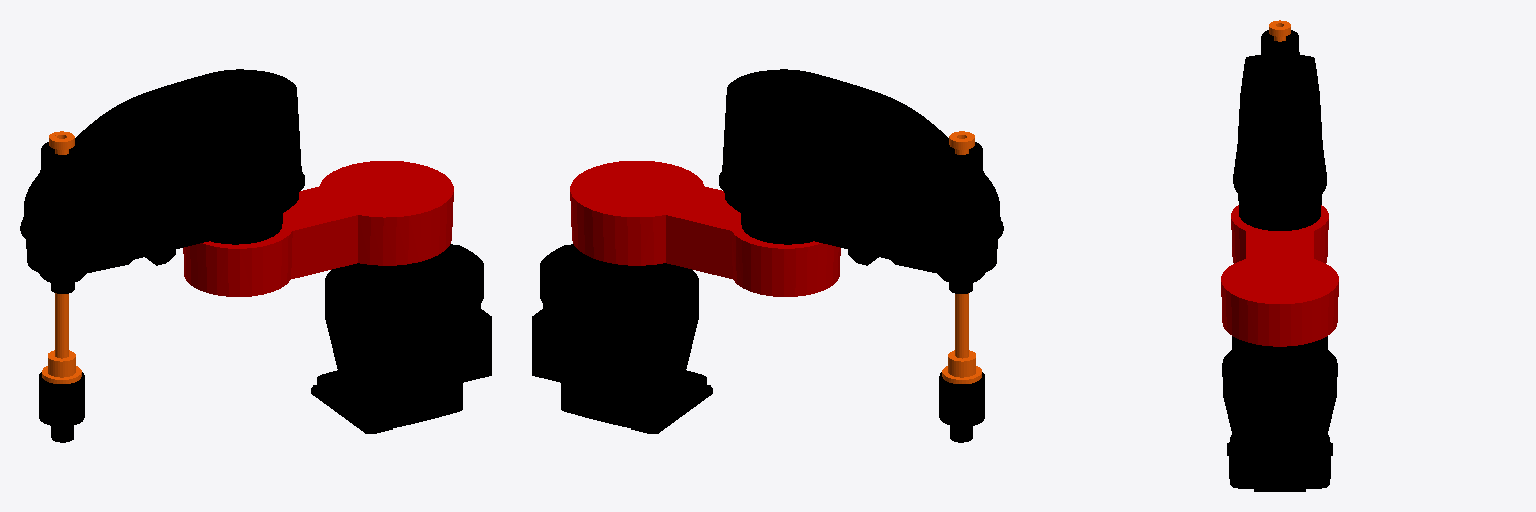
URDF robot description (sr_scara_hx):
<?xml version="1.0" ?>
<!-- =================================================================================== -->
<!-- |    This document was autogenerated by xacro from sr_scara_hx.xacro              | -->
<!-- |    EDITING THIS FILE BY HAND IS NOT RECOMMENDED                                 | -->
<!-- =================================================================================== -->
<!-- Added the end effector casing as well as the Suction Gripper-->
<robot name="sr_scara_hx" xmlns:xacro="http://www.ros.org/wiki/xacro">
  <!-- arbitrary value for mass -->
  <!-- Link 1 -->
  <!-- Link 2 -->
  <!-- Link 3 -->
  <!-- Import all Gazebo-customization elements, including Gazebo colors -->
  <!-- ros_control plugin -->
  <gazebo>
    <plugin filename="libgazebo_ros_control.so" name="gazebo_ros_control">
      <robotNamespace>/sr_scara_hx</robotNamespace>
      <robotSimType>gazebo_ros_control/DefaultRobotHWSim</robotSimType>
    </plugin>
  </gazebo>
  <!-- Link1 -->
  <gazebo reference="base_link">
    <material>Gazebo/Black</material>
  </gazebo>
  <!-- Link2 -->
  <gazebo reference="link1">
    <mu1>0.2</mu1>
    <mu2>0.2</mu2>
    <material>Gazebo/Red</material>
  </gazebo>
  <!-- Link3 -->
  <gazebo reference="link2">
    <mu1>0.2</mu1>
    <mu2>0.2</mu2>
    <material>Gazebo/Black</material>
  </gazebo>
  <!-- Probe -->
  <gazebo reference="probe">
    <mu1>0.2</mu1>
    <mu2>0.2</mu2>
    <material>Gazebo/Orange</material>
  </gazebo>
  <!-- Import Rviz colors -->
  <material name="black">
    <color rgba="0.0 0.0 0.0 1.0"/>
  </material>
  <material name="blue">
    <color rgba="0.0 0.0 0.8 1.0"/>
  </material>
  <material name="green">
    <color rgba="0.0 0.8 0.0 1.0"/>
  </material>
  <material name="grey">
    <color rgba="0.2 0.2 0.2 1.0"/>
  </material>
  <material name="orange">
    <color rgba="1.0 0.423529411765 0.0392156862745 1.0"/>
  </material>
  <material name="brown">
    <color rgba="0.870588235294 0.811764705882 0.764705882353 1.0"/>
  </material>
  <material name="red">
    <color rgba="0.8 0.0 0.0 1.0"/>
  </material>
  <material name="white">
    <color rgba="1.0 1.0 1.0 1.0"/>
  </material>
  <!--Links -->
  <link name="base_link">
    <visual>
      <origin rpy="0 0 0" xyz="0 0 0.151"/>
      <geometry>
        <mesh filename="package://robot_simulation/meshes/base_R01.stl" scale="0.001 0.001 0.001"/>
      </geometry>
      <material name="black"/>
    </visual>
    <collision>
      <origin rpy="0 0 0" xyz="0 0 0.151"/>
      <geometry>
        <mesh filename="package://robot_simulation/meshes/base_R01.stl" scale="0.001 0.001 0.001"/>
      </geometry>
    </collision>
    <inertial>
      <origin rpy="0 0 0" xyz="0 0 0.151"/>
      <mass value="30.0"/>
      <inertia ixx="1.0" ixy="0.0" ixz="0.0" iyy="1.0" iyz="0.0" izz="1.0"/>
    </inertial>
  </link>
  <link name="link1">
    <visual>
      <origin rpy="0 0 0" xyz="-0.18 0 0.365"/>
      <geometry>
        <mesh filename="package://robot_simulation/meshes/arm_link_R01.stl" scale="0.001 0.001 0.001"/>
      </geometry>
      <material name="red"/>
    </visual>
    <collision>
      <origin rpy="0 0 0" xyz="-0.18 0 0.365"/>
      <geometry>
        <mesh filename="package://robot_simulation/meshes/arm_link_R01.stl" scale="0.001 0.001 0.001"/>
      </geometry>
    </collision>
    <inertial>
      <origin rpy="0 0 0" xyz="-0.18 0 0.365"/>
      <mass value="10.0"/>
      <inertia ixx="1.0" ixy="0.0" ixz="0.0" iyy="1.0" iyz="0.0" izz="1.0"/>
    </inertial>
  </link>
  <link name="link2">
    <visual>
      <origin rpy="0 0 0" xyz="-0.25 0 0.47"/>
      <geometry>
        <mesh filename="package://robot_simulation/meshes/head_link_R01.stl" scale="0.001 0.001 0.001"/>
      </geometry>
      <material name="black"/>
    </visual>
    <collision>
      <origin rpy="0 0 0" xyz="-0.25 0 0.47"/>
      <geometry>
        <mesh filename="package://robot_simulation/meshes/head_link_R01.stl" scale="0.001 0.001 0.001"/>
      </geometry>
    </collision>
    <inertial>
      <origin rpy="0 0 0" xyz="-0.25 0 0.47"/>
      <mass value="10.0"/>
      <inertia ixx="1.0" ixy="0.0" ixz="0.0" iyy="1.0" iyz="0.0" izz="1.0"/>
    </inertial>
  </link>
  <link name="probe">
    <visual>
      <origin rpy="0 0 0" xyz="-0.7 0 0.43"/>
      <geometry>
        <mesh filename="package://robot_simulation/meshes/End_link_R01.stl" scale="0.001 0.001 0.001"/>
      </geometry>
      <material name="orange"/>
    </visual>
    <collision>
      <origin rpy="0 0 0" xyz="-0.7 0 0.43"/>
      <geometry>
        <mesh filename="package://robot_simulation/meshes/End_link_R01.stl" scale="0.001 0.001 0.001"/>
      </geometry>
    </collision>
    <inertial>
      <origin rpy="0 0 0" xyz="-0.7 0 0.43"/>
      <mass value="2.0"/>
      <inertia ixx="1.0" ixy="0.0" ixz="0.0" iyy="1.0" iyz="0.0" izz="1.0"/>
    </inertial>
  </link>

  <link name="gripper">
    <visual>
      <origin rpy="0 0 0" xyz="-0.05 0 0"/>
      <geometry>
        <cylinder length="0.08" radius="0.04"/>
      </geometry>
      <material name="black"/>
    </visual>
    <collision>
      <origin rpy="0 0 0" xyz="-0.05 0 0"/>
      <geometry>
        <cylinder length="0.08" radius="0.04"/>
      </geometry>
    </collision>
    <inertial>
      <origin rpy="0 0 0" xyz="-0.05 0 0"/>
      <mass value="0.3"/>
      <inertia ixx="1.0" ixy="0.0" ixz="0.0" iyy="1.0" iyz="0.0" izz="1.0"/>
    </inertial>
  </link>

  <link name="gripper_end_effector">
    <visual>
      <origin rpy="0 0 0" xyz="-0.04 0 -0.01"/>
      <geometry>
        <cylinder length="0.04" radius="0.02"/>
      </geometry>
      <material name="black"/>
    </visual>
    <collision>
      <origin rpy="0 0 0" xyz="-0.04 0 -0.01"/>
      <geometry>
        <cylinder length="0.001" radius="0.004"/>
      </geometry>
    </collision>
    <inertial>
      <origin rpy="0 0 0" xyz="-0.04 0 -0.01"/>
      <mass value="0.1"/>
      <inertia ixx="1.0" ixy="0.0" ixz="0.0" iyy="1.0" iyz="0.0" izz="1.0"/>
    </inertial>
  </link>

  <!-- Joints -->
  <joint name="joint1" type="revolute">
    <axis xyz="0 0 1"/>
    <limit effort="3.0" lower="-2.792" upper="2.792" velocity="0.01"/>
    <origin rpy="0 0 0" xyz="0 0 0.003"/>
    <parent link="base_link"/>
    <child link="link1"/>
  </joint>
  <joint name="joint2" type="revolute">
    <axis xyz="0 0 1"/>
    <limit effort="3.0" lower="-2.443" upper="2.443" velocity="0.01"/>
    <origin rpy="0 0 0" xyz="-0.3 0 0.006"/>
    <parent link="link1"/>
    <child link="link2"/>
  </joint>
  <joint name="joint3" type="prismatic">
    <axis xyz="0 0 1"/>
    <limit effort="3.0" lower="0.0" upper="0.13" velocity="0.01"/>
    <origin rpy="0 0 0" xyz="0.3 0 0"/>
    <parent link="link2"/>
    <child link="probe"/>
  </joint>

  <joint name="joint4" type="fixed">
    <origin rpy="0 0 0" xyz="-0.65 0 0.158"/>
    <parent link="probe"/>
    <child link="gripper"/>
  </joint>

  <joint name="joint5" type="fixed">
    <origin rpy="0 0 0" xyz="-0.008 0 -0.05"/>
    <parent link="gripper"/>
    <child link="gripper_end_effector"/>
  </joint>

  <!-- Transmissions -->
  <transmission name="tran1">
    <type>transmission_interface/SimpleTransmission</type>
    <joint name="joint1">
      <hardwareInterface>PositionJointInterface</hardwareInterface>
    </joint>
    <actuator name="motor1">
      <hardwareInterface>PositionJointInterface</hardwareInterface>
      <mechanicalReduction>1</mechanicalReduction>
    </actuator>
  </transmission>
  <transmission name="tran2">
    <type>transmission_interface/SimpleTransmission</type>
    <joint name="joint2">
      <hardwareInterface>PositionJointInterface</hardwareInterface>
    </joint>
    <actuator name="motor2">
      <hardwareInterface>PositionJointInterface</hardwareInterface>
      <mechanicalReduction>1</mechanicalReduction>
    </actuator>
  </transmission>
  <transmission name="tran3">
    <type>transmission_interface/SimpleTransmission</type>
    <joint name="joint3">
      <hardwareInterface>PositionJointInterface</hardwareInterface>
    </joint>
    <actuator name="motor3">
      <hardwareInterface>PositionJointInterface</hardwareInterface>
      <mechanicalReduction>1</mechanicalReduction>
    </actuator>
  </transmission>
</robot>

--- What the picture shows (computed from the rendered views, not written in the file) ---
Views: 3 orthographic renders of the robot side by side, from view 1: azimuth 30°, elevation 25°; view 2: azimuth 150°, elevation 25°; view 3: azimuth 270°, elevation 25°.
Robot: sr_scara_hx — 6 links, 5 joints (2 revolute, 1 prismatic, 2 fixed); root link base_link; default pose: every joint at zero.
Links seen in each view (by area): view 1: link2, base_link, link1, probe, gripper; view 2: link2, base_link, link1, probe, gripper; view 3: base_link, link2, link1.
Boxes of the visible links, x1,y1,x2,y2 form: link2: [20, 69, 304, 293]; base_link: [311, 244, 491, 433]; link1: [183, 161, 453, 296]; probe: [42, 131, 81, 383]; gripper: [39, 372, 84, 426]; link2: [719, 69, 1003, 293]; base_link: [532, 244, 712, 433]; link1: [570, 161, 840, 296]; probe: [942, 131, 981, 383]; gripper: [939, 372, 984, 426]; base_link: [1222, 336, 1337, 491]; link2: [1233, 30, 1326, 230]; link1: [1221, 205, 1338, 346].
Size in the robot's own frame: 0.9118 by 0.2366 by 0.6865 metres.
Meshes: 4 distinct files referenced, 4 mesh visuals loaded (4 binary STL).